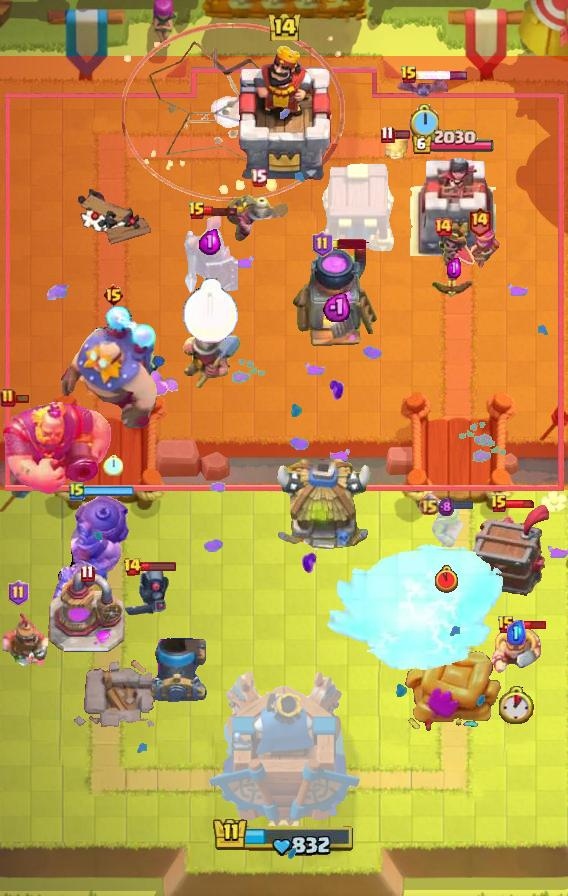bandit: (181, 320, 243, 392), (226, 192, 290, 246)
barbarian-barrel: (395, 79, 453, 99)
battle-ram: (122, 565, 172, 619)
bomb: (317, 160, 397, 254)
bomber-evolution: (431, 223, 477, 303)
cannon: (456, 227, 502, 271)
clock: (212, 816, 356, 858)
dart-goblin: (471, 504, 553, 598)
earthquake: (0, 605, 50, 673)
electro-spirit: (322, 291, 349, 322), (199, 228, 221, 255), (507, 619, 526, 644), (438, 497, 454, 517), (447, 258, 461, 278)
elixir: (181, 278, 238, 344), (499, 686, 534, 724), (409, 105, 439, 140), (434, 565, 457, 593), (103, 454, 123, 476)
elixir-golem-big: (182, 210, 238, 298)
emote: (415, 70, 469, 81), (83, 486, 134, 496), (203, 205, 239, 217), (438, 498, 474, 510), (513, 619, 548, 631), (139, 560, 177, 571), (330, 239, 366, 249), (505, 499, 537, 509), (10, 392, 30, 403), (393, 129, 412, 140)
goblin-giant: (490, 626, 542, 674)
guard: (122, 22, 346, 202)
hunter: (291, 242, 381, 350)
ice-spirit-evolution: (382, 132, 408, 160)
king-tower: (207, 669, 361, 826), (230, 43, 338, 181)
lightning: (0, 400, 112, 496)
little-prince: (59, 304, 167, 430)
mega-knight: (324, 541, 508, 677)
musketeer: (147, 638, 207, 702)
pekka: (48, 572, 126, 654)
prince: (272, 459, 374, 555)
queen-tower: (410, 156, 496, 256)
selected: (411, 128, 495, 155)
text: (467, 207, 492, 238), (102, 283, 125, 307), (418, 492, 441, 516), (311, 231, 332, 257), (7, 580, 28, 606), (433, 217, 453, 237), (122, 557, 141, 577), (400, 65, 418, 85), (188, 201, 206, 221), (490, 494, 508, 514), (497, 615, 515, 635), (249, 169, 266, 188), (0, 388, 16, 408), (69, 481, 85, 501), (381, 125, 396, 144), (81, 565, 96, 583)
wizard: (50, 492, 132, 606)
zap: (426, 504, 466, 548)
